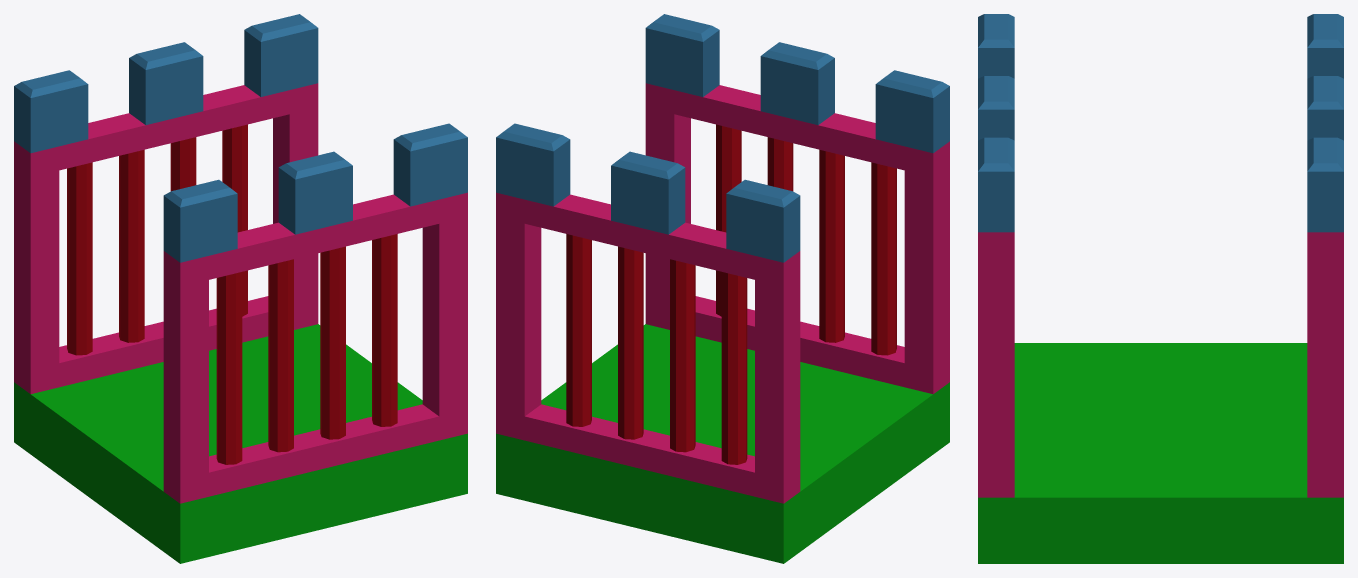
Rendered from phwalkway.glb.
3 views of the same model, side by side, from view 1: azimuth 30°, elevation 25°; view 2: azimuth 150°, elevation 25°; view 3: azimuth 270°, elevation 25° (orthographic). The views are drawn at different scales.
Bounding box in the file's own units: 5 × 6 × 5.
